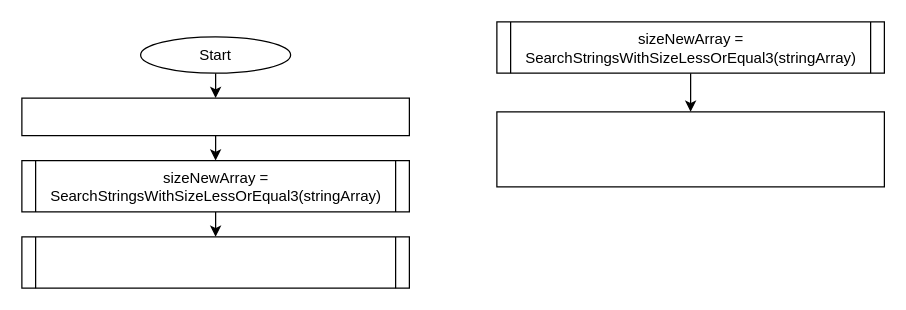
This 906x310 diagram has some shape labels left out. Here are the shapes that lost their labels. From the top down, the centre of each, then its label:
the point at 215,116: stringArray = ["hello", "2", "world", ":-)"]
the point at 215,262: CreateArrayWithSizeLessOrEqual3 (stringArray, )
